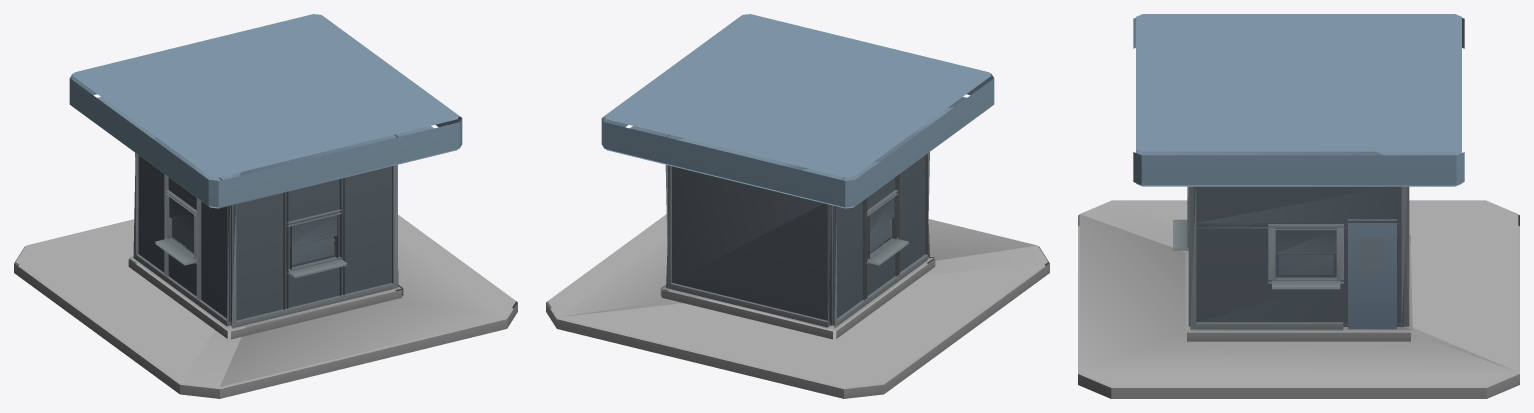
File: gatehouse.lod.glb
3 views of the same model, side by side, from view 1: azimuth 30°, elevation 25°; view 2: azimuth 150°, elevation 25°; view 3: azimuth 270°, elevation 25° (orthographic). The views are drawn at different scales.
Visible parts, largest first — view 1: gatehouse.001; view 2: gatehouse.001; view 3: gatehouse.001.
Part boxes in pixels (left/top/right/bottom): gatehouse.001: left=14, top=14, right=517, bottom=398; gatehouse.001: left=546, top=14, right=1049, bottom=398; gatehouse.001: left=1078, top=14, right=1519, bottom=398.
Bounding box in the file's own units: 8 × 4.45 × 8.
